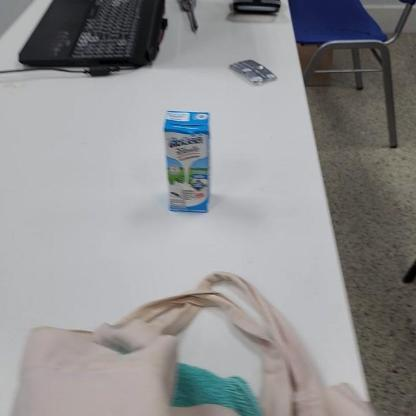Others: (154, 100, 220, 226)
